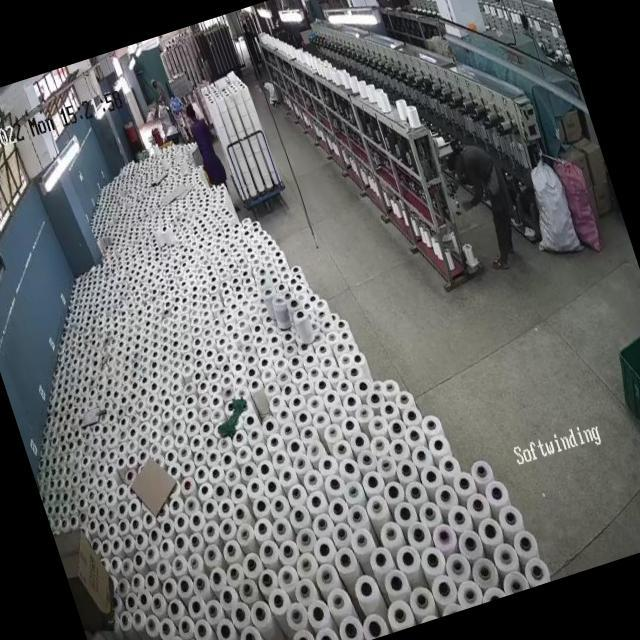person: (184, 102, 226, 177), (149, 76, 176, 120)
